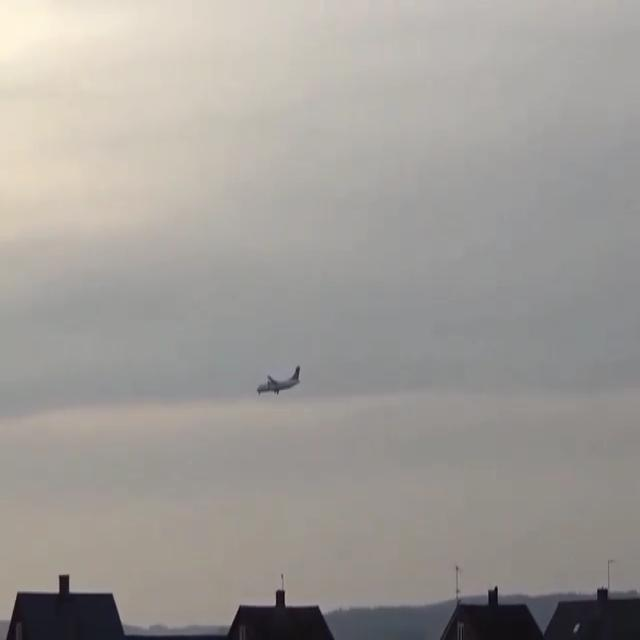AirPlane: (238, 359, 310, 406)
